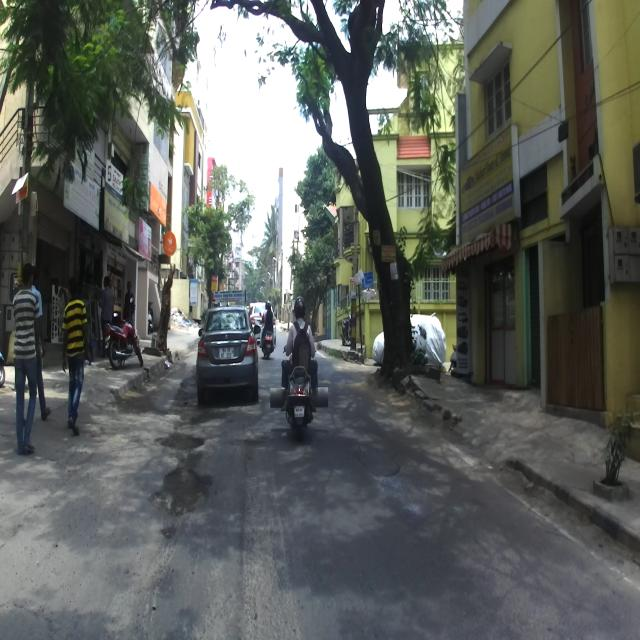car ahead at: (197, 305, 259, 407)
motorcycle ahead at: (268, 346, 335, 435), (102, 297, 142, 372)
person ahead at: (6, 260, 49, 470), (57, 281, 96, 436)
